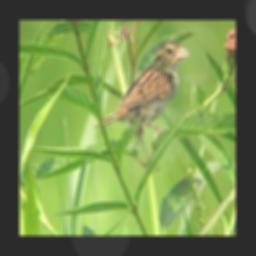Sparrow: (91, 39, 192, 150)
